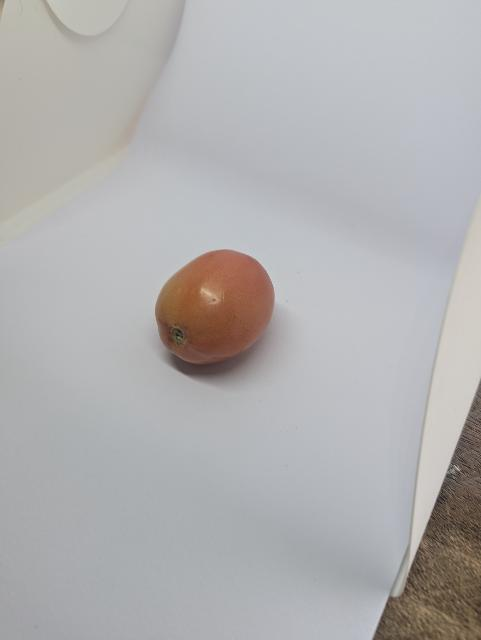turning: (147, 242, 283, 373)
